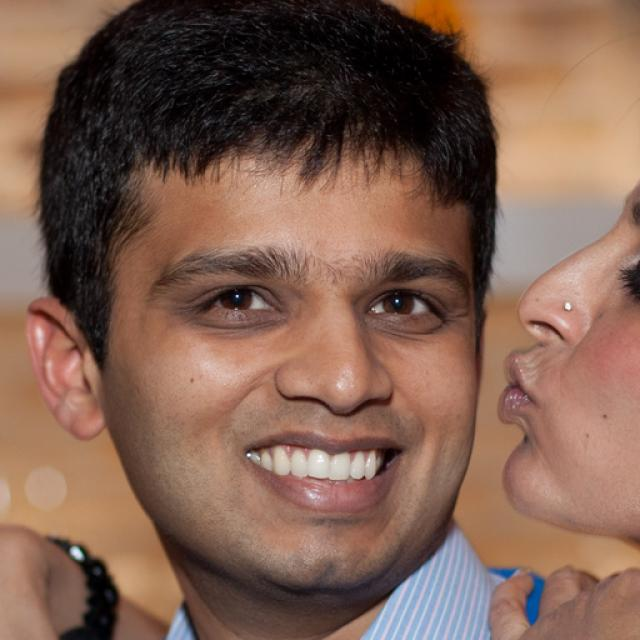Dark Circle: (364, 315, 445, 343), (201, 313, 286, 337)
